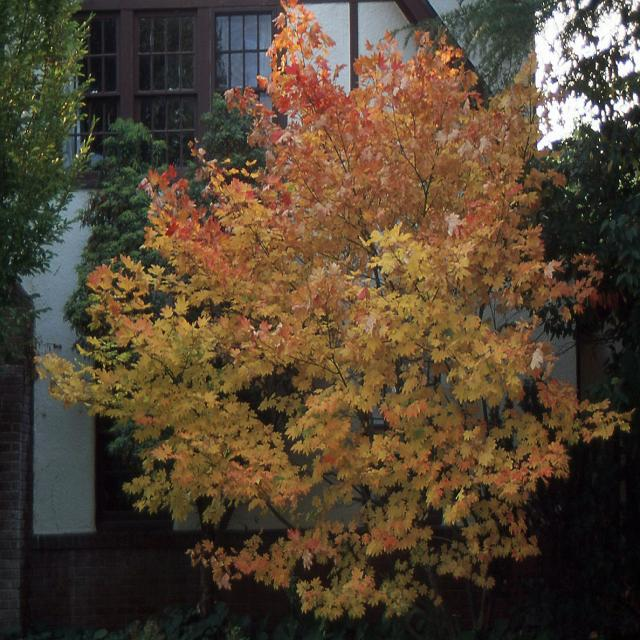Acer circinatum: (42, 1, 632, 626)
